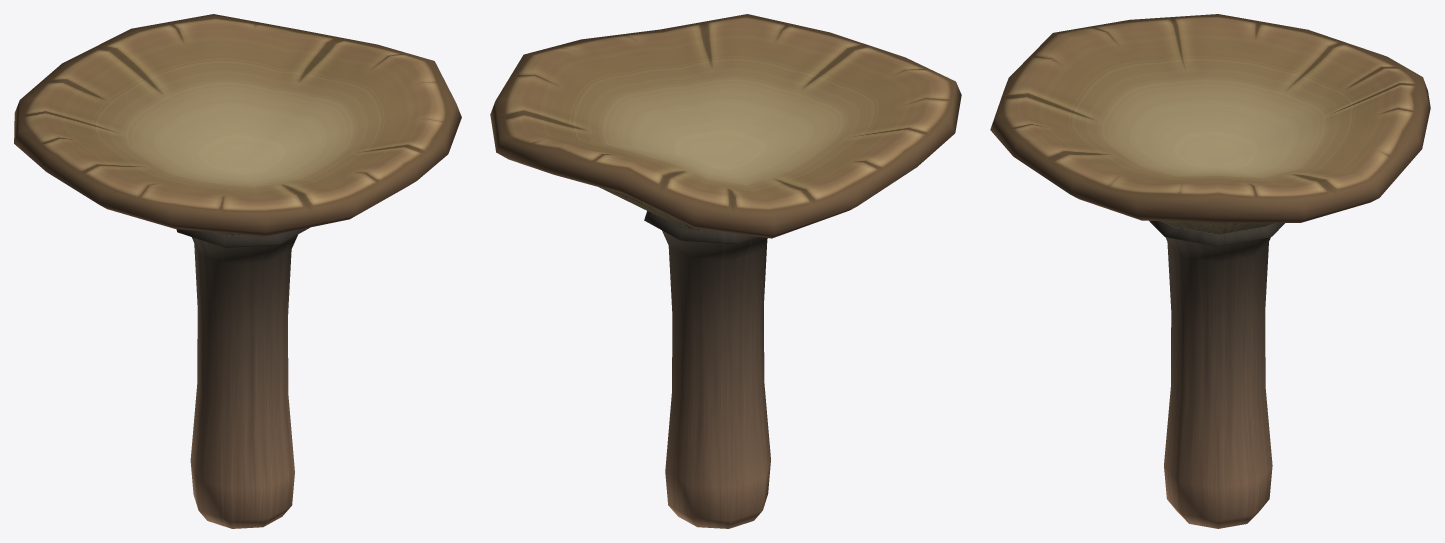
The model's file is VEG0110011.fbx.
The picture shows the model from 3 angles, left to right: view 1: azimuth 30°, elevation 25°; view 2: azimuth 150°, elevation 25°; view 3: azimuth 270°, elevation 25°; orthographic projection.
Parts seen in each view (by area): view 1: smVEG0110011; view 2: smVEG0110011; view 3: smVEG0110011.
Part boxes in pixels (left/top/right/bottom): smVEG0110011: left=14, top=14, right=461, bottom=528; smVEG0110011: left=490, top=14, right=961, bottom=528; smVEG0110011: left=990, top=14, right=1430, bottom=528.
Bounding box in the file's own units: 33 × 34.23 × 31.88.
Materials: 1 (1 with a texture image).
